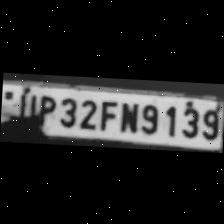1: (158, 100, 180, 136)
2: (75, 94, 98, 129)
3: (53, 92, 78, 126), (176, 100, 198, 138)
9: (136, 99, 160, 134), (197, 102, 220, 138)
F: (96, 96, 116, 130)
N: (114, 97, 138, 132)
P: (29, 90, 55, 124)
U: (9, 90, 34, 122)
